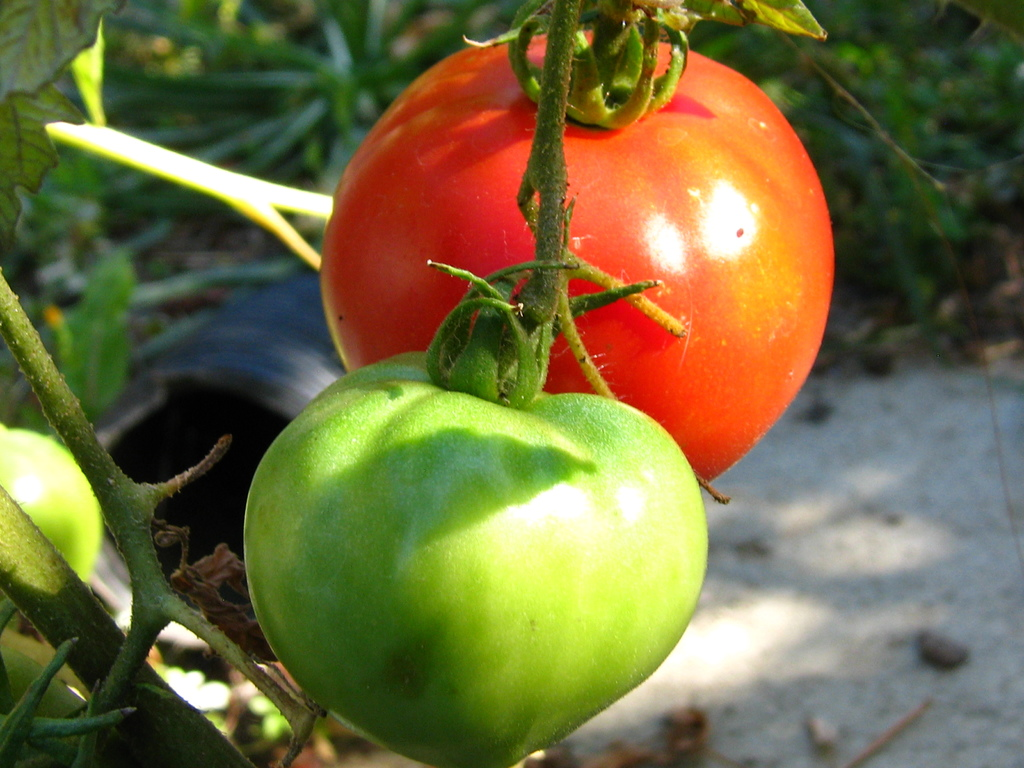Tomato: (233, 257, 714, 767), (357, 43, 824, 481)
